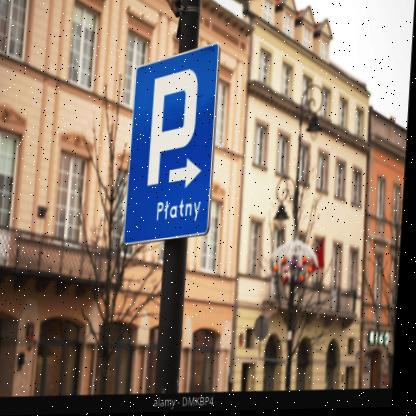Parking: (121, 64, 221, 237)
